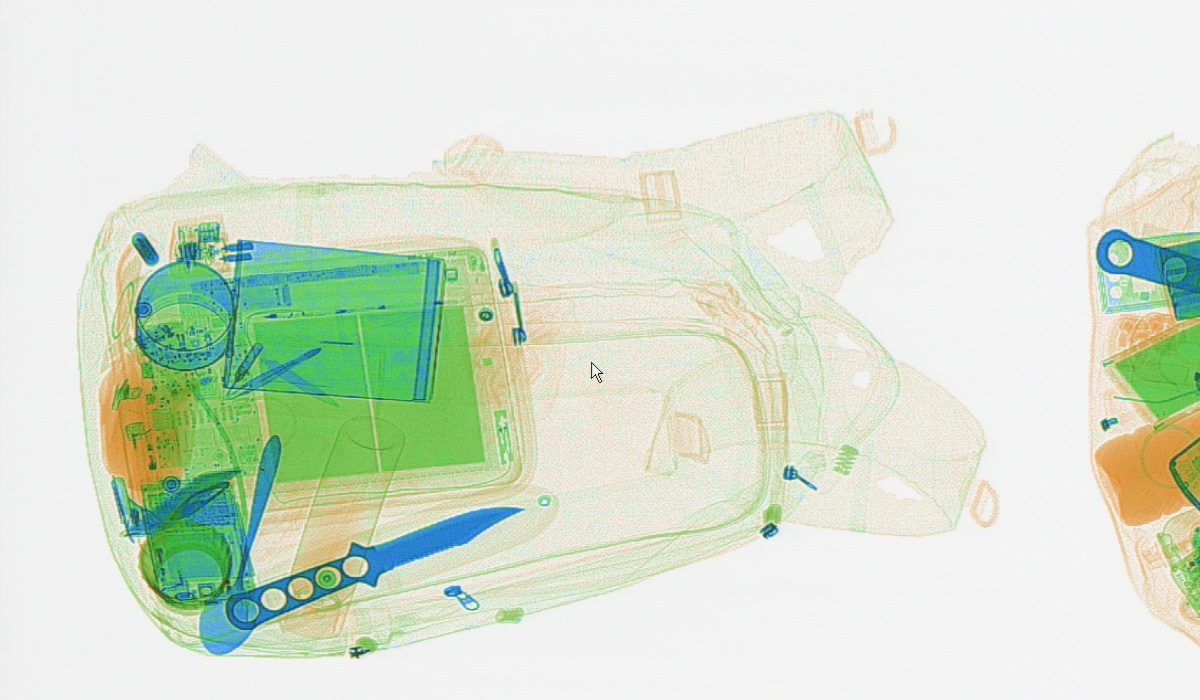knife: (224, 503, 524, 628)
lighter: (122, 414, 168, 526)
